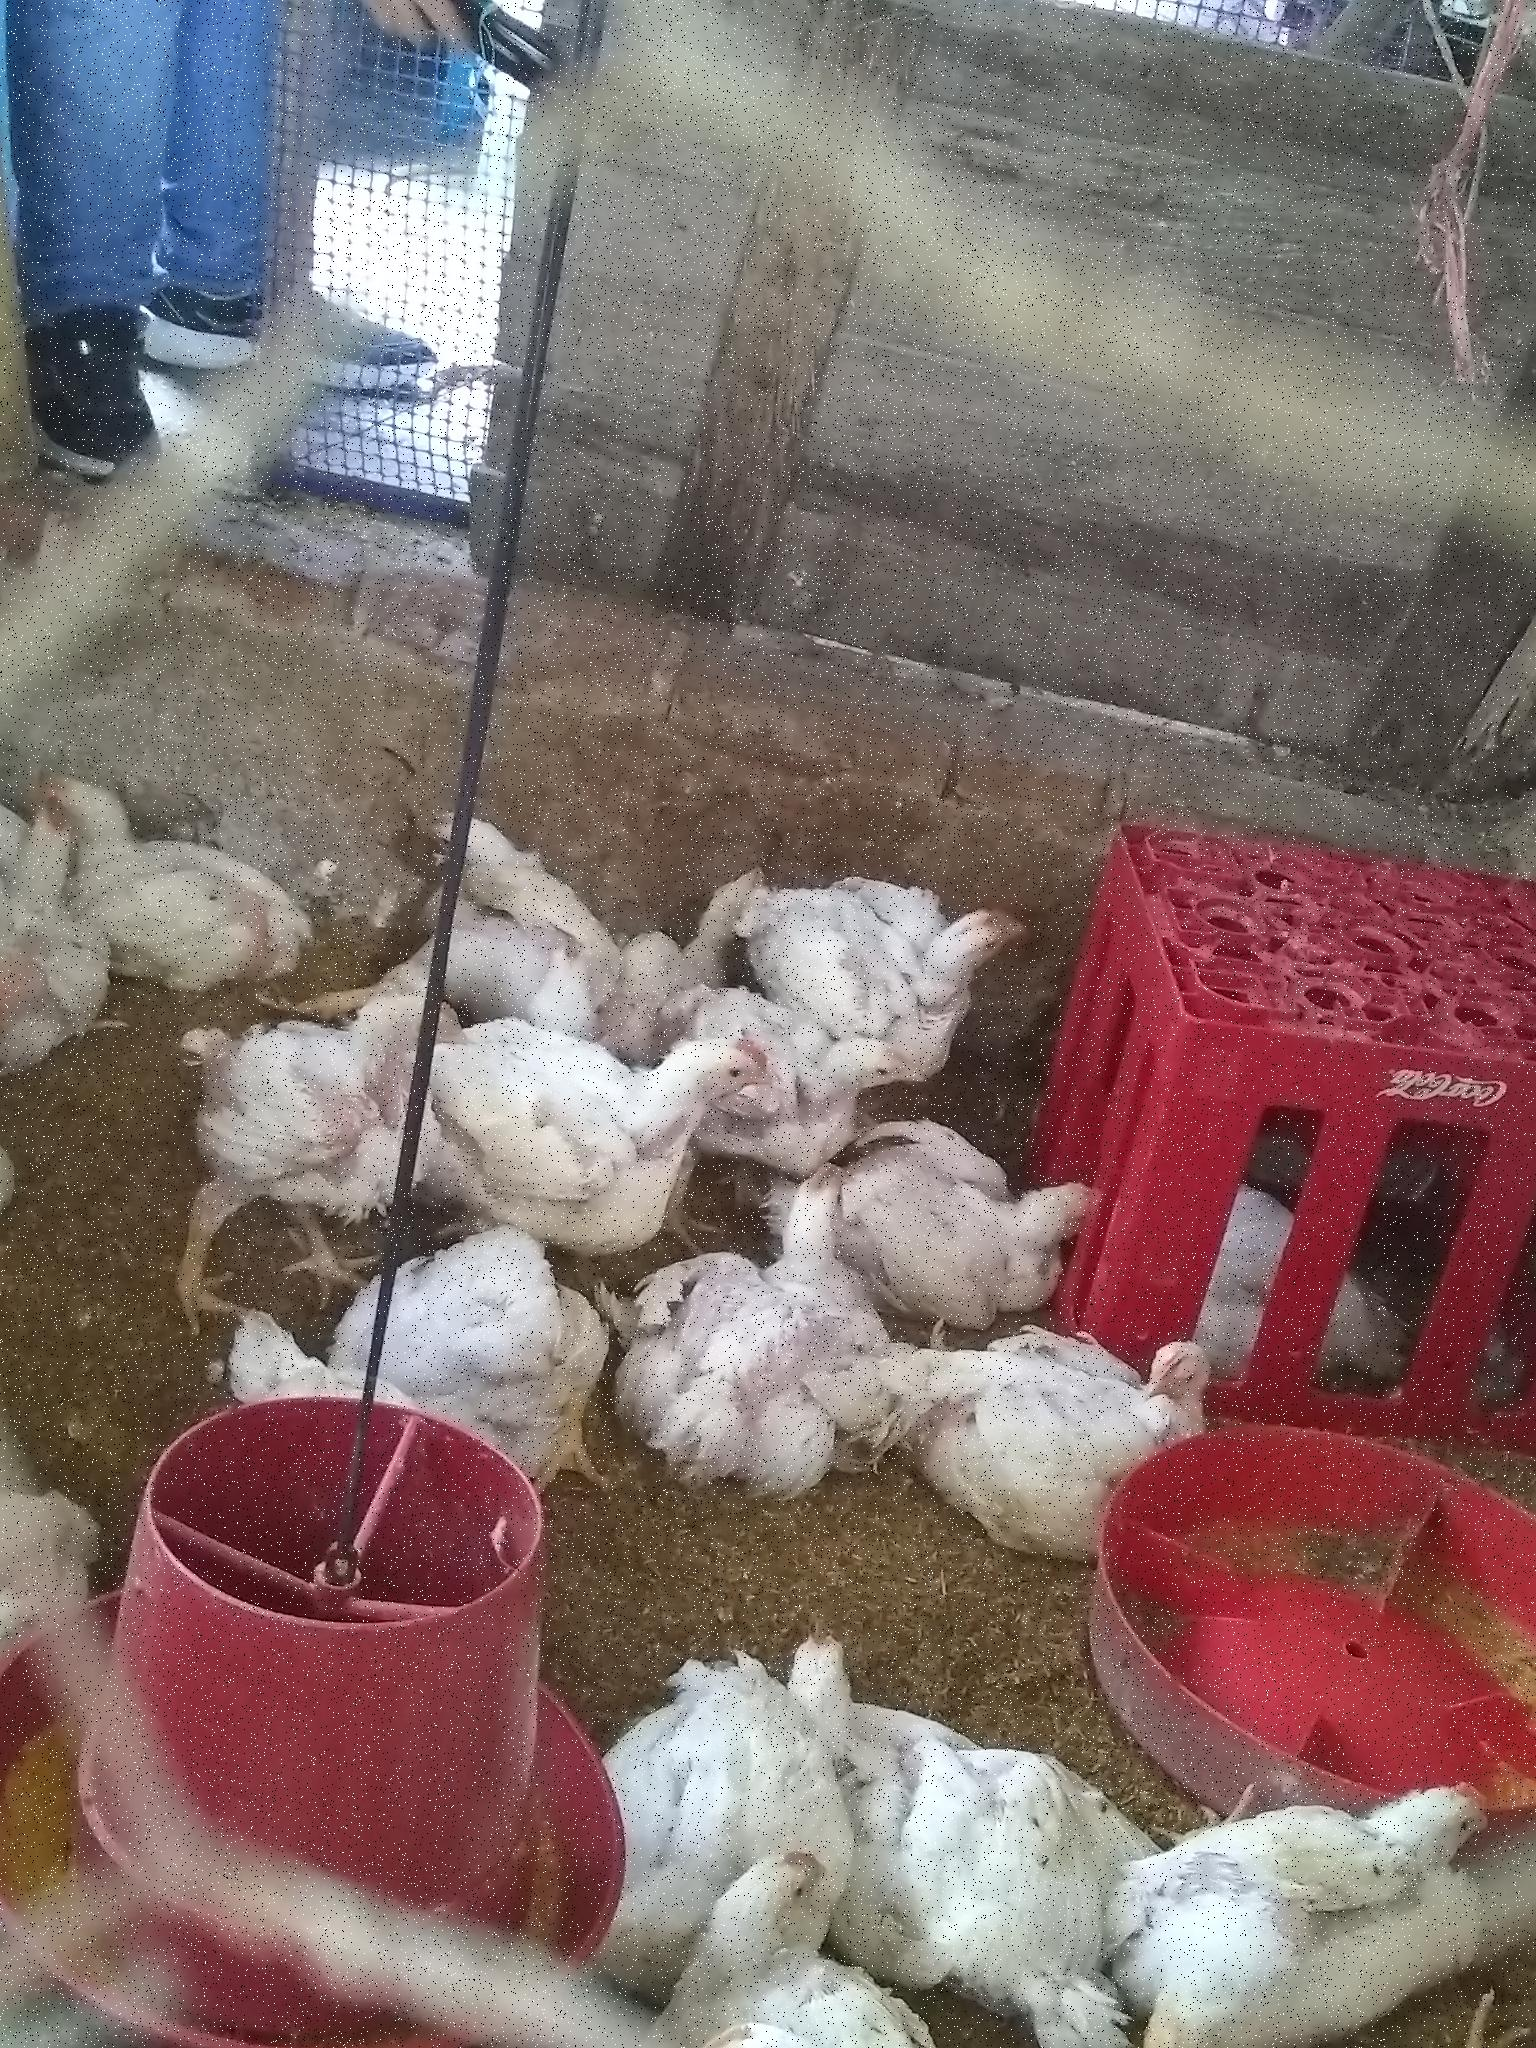Pollos: (1123, 1775, 1505, 2045), (232, 1247, 607, 1505), (558, 1642, 845, 1963), (624, 1174, 907, 1490), (763, 1601, 1050, 1911), (190, 992, 466, 1284), (437, 1021, 758, 1240), (912, 1746, 1129, 2045), (47, 764, 337, 985), (933, 1332, 1220, 1551), (674, 1856, 962, 2048), (836, 1121, 1100, 1326), (734, 884, 1029, 1059), (1194, 1171, 1417, 1400), (700, 997, 921, 1164), (2, 806, 127, 1077), (416, 847, 611, 1021), (610, 864, 760, 1034)
